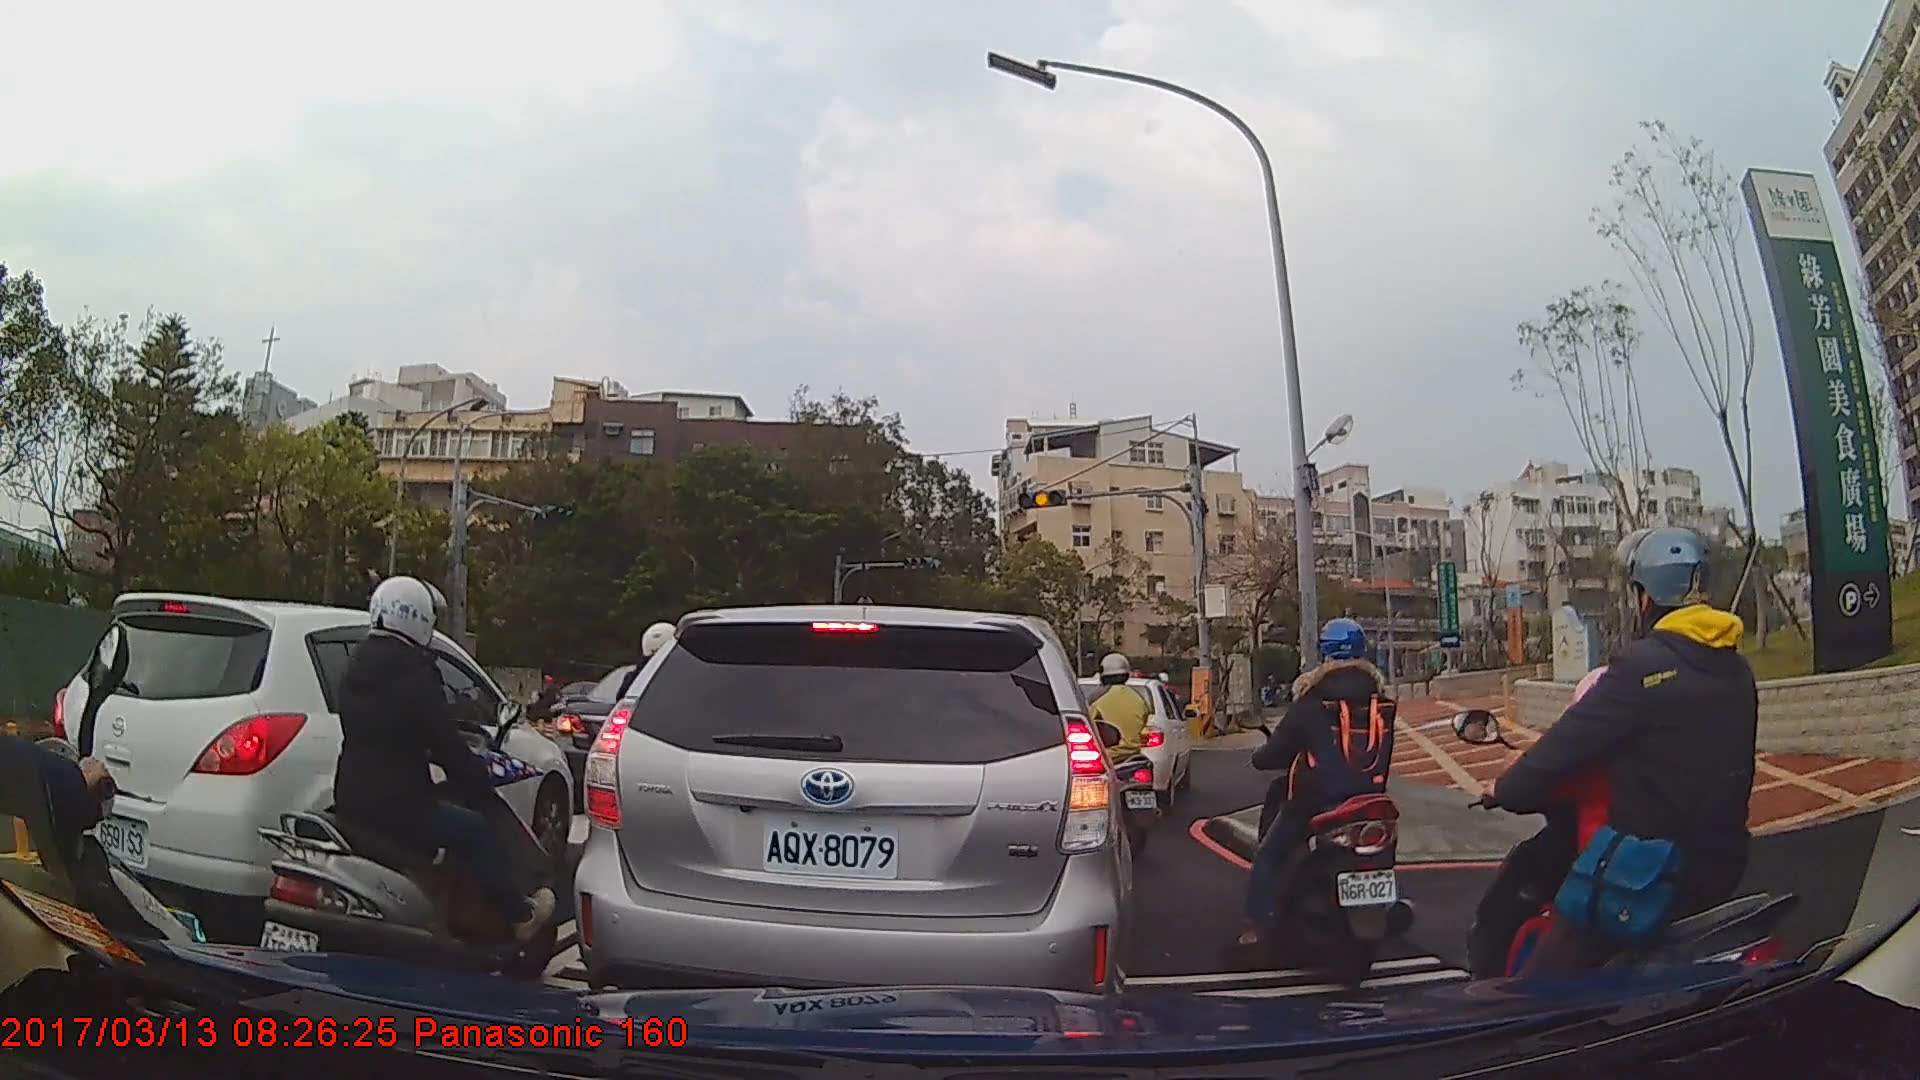rider: (1468, 526, 1801, 1055), (260, 574, 567, 994), (1222, 614, 1420, 979), (1065, 650, 1164, 856)
vehicle: (569, 601, 1138, 1032), (44, 591, 573, 933), (552, 656, 772, 803)
